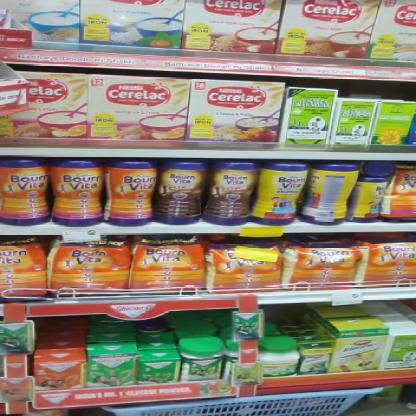Glucon D Regular 1-KG: (86, 352, 136, 386), (138, 352, 180, 384)
Glucon D Regular 2-KG: (184, 336, 226, 382)
Glucon D Tangy orange 1-KG: (38, 355, 85, 390)
